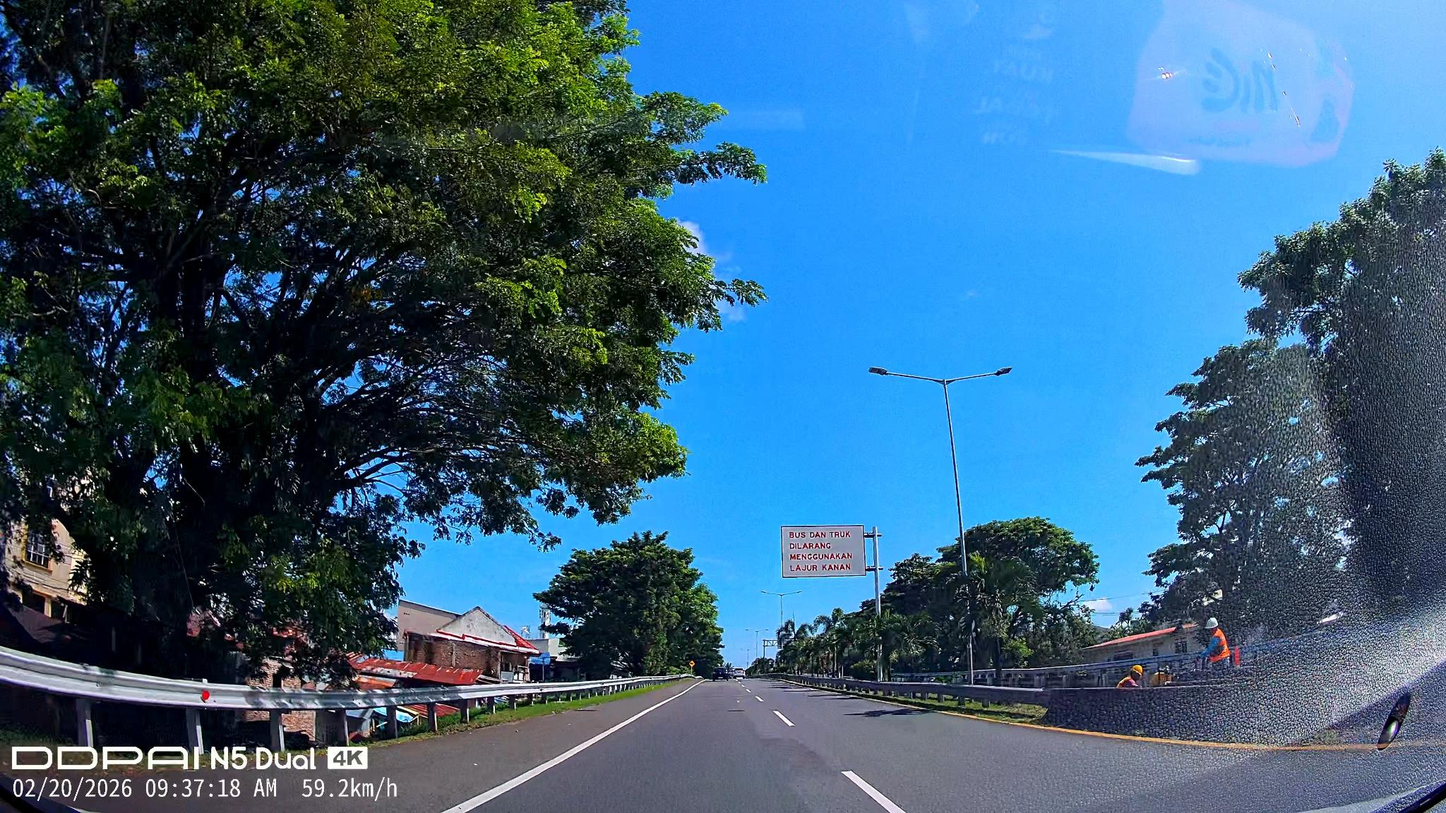rambu_teks: (781, 524, 867, 579)
